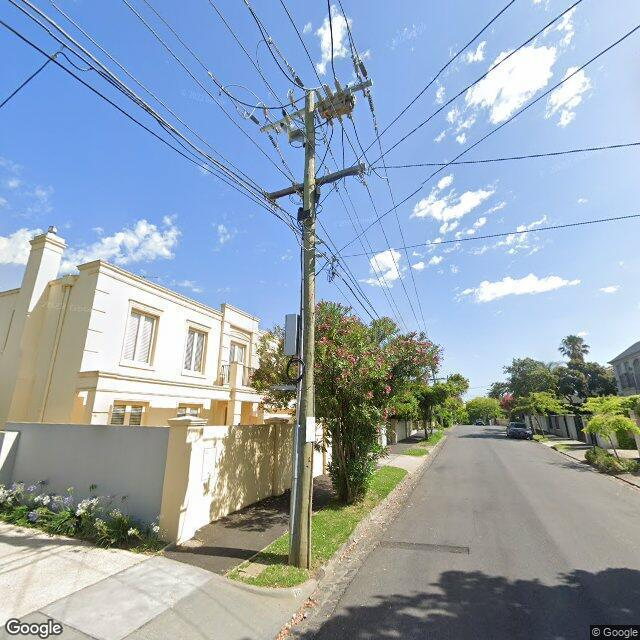HV-switch: (314, 78, 356, 127)
HV-transmission: (206, 25, 374, 149)
crossarm: (261, 78, 373, 134), (266, 162, 366, 198)
timber-pole: (288, 89, 316, 569)
